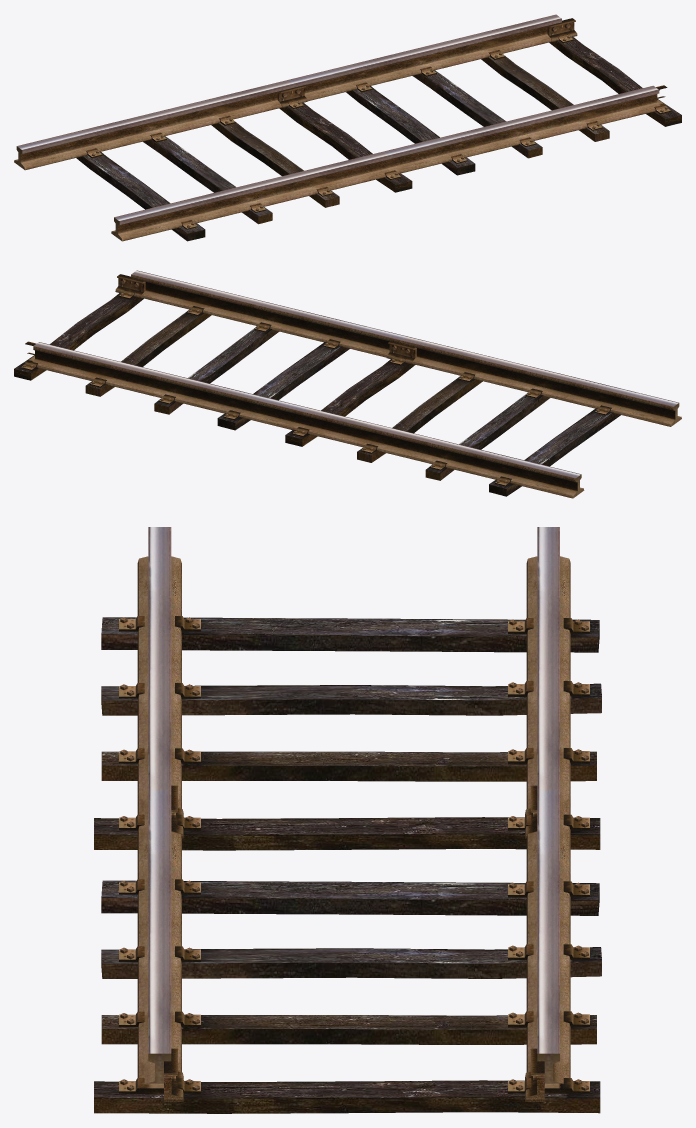
File: railroadtracks256.glb
The picture shows the model from 3 angles, top to bottom: view 1: azimuth 30°, elevation 25°; view 2: azimuth 150°, elevation 25°; view 3: azimuth 270°, elevation 25°; orthographic projection. The views are drawn at different scales.
Parts seen in each view (by area): view 1: 0_RailroadTrack; view 2: 0_RailroadTrack; view 3: 0_RailroadTrack.
Boxes of the visible parts, bbox=[...] form: 0_RailroadTrack: bbox=[14, 14, 681, 241]; 0_RailroadTrack: bbox=[14, 270, 681, 498]; 0_RailroadTrack: bbox=[94, 527, 601, 1113].
Size of the model in its own units: 6.61 by 0.2993 by 2.64.
1 material, 1 textured.
